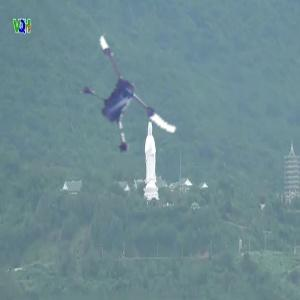drone: (65, 44, 196, 175)
